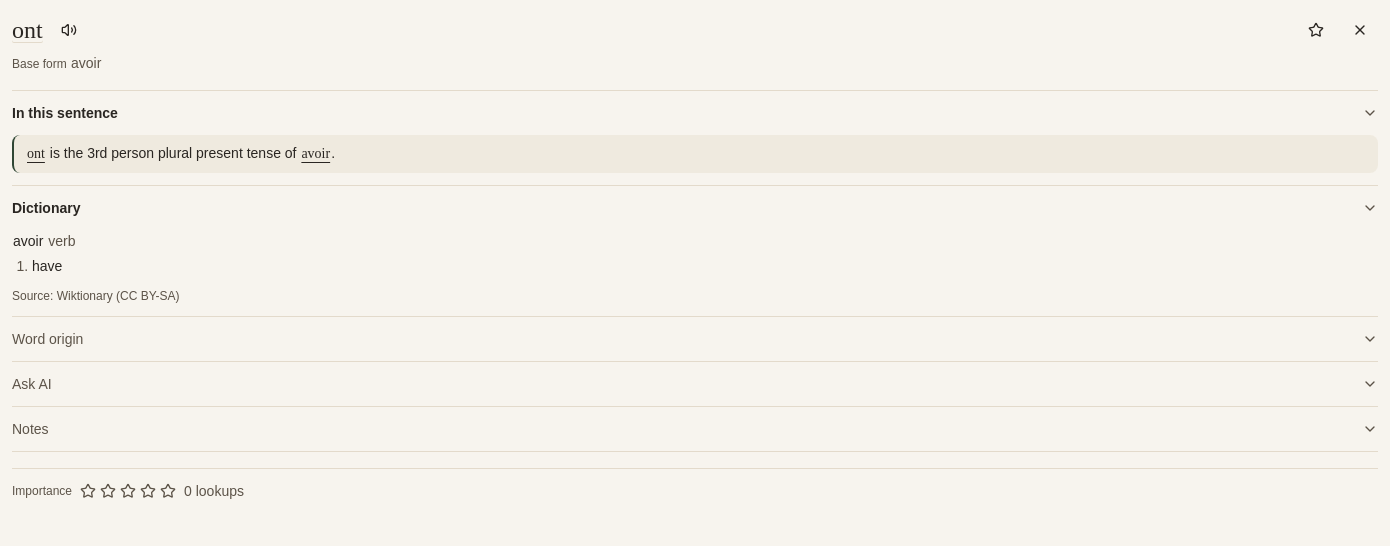
Scenario: Task B — Study word card, selection and steps › gives avoir its own sentence context via base form
Click the button "avoir" next to "Base form": (86, 63) [70,52,102,74]
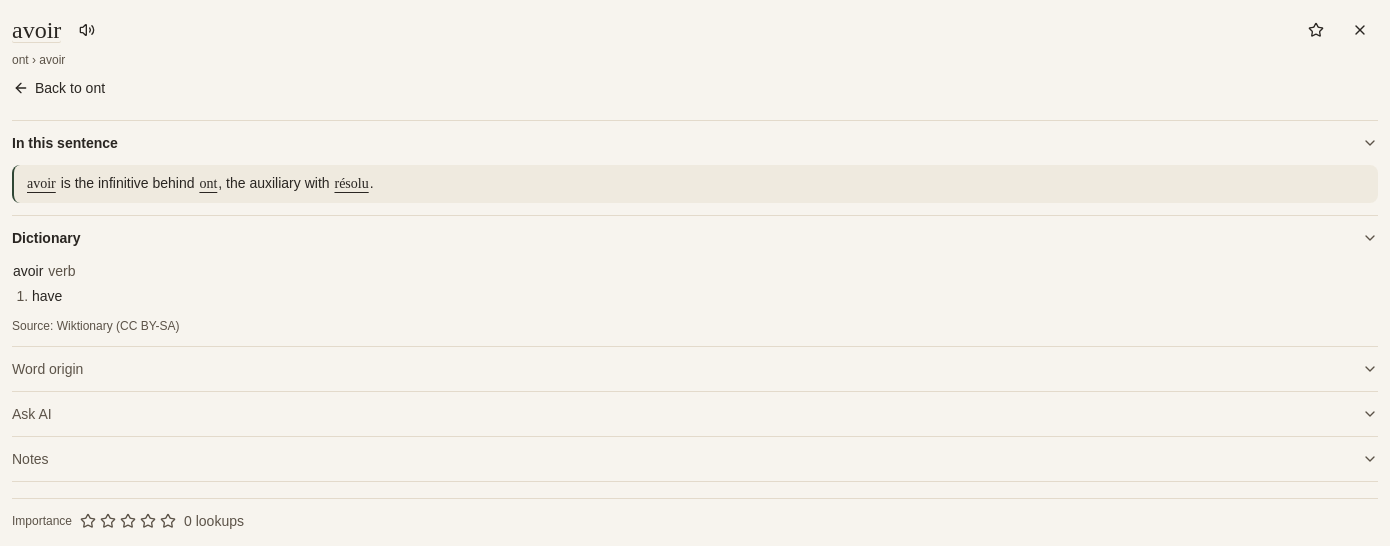
Expected: the element with class "wp-headword" reads "avoir", [12,17,61,43]
Expected: the element named "In this sentence" shows "is the infinitive behind", [57,175,198,191]
Expected: the button "Back to ont" is shown
Click the button "Back to ont": (59, 88) [12,72,106,104]
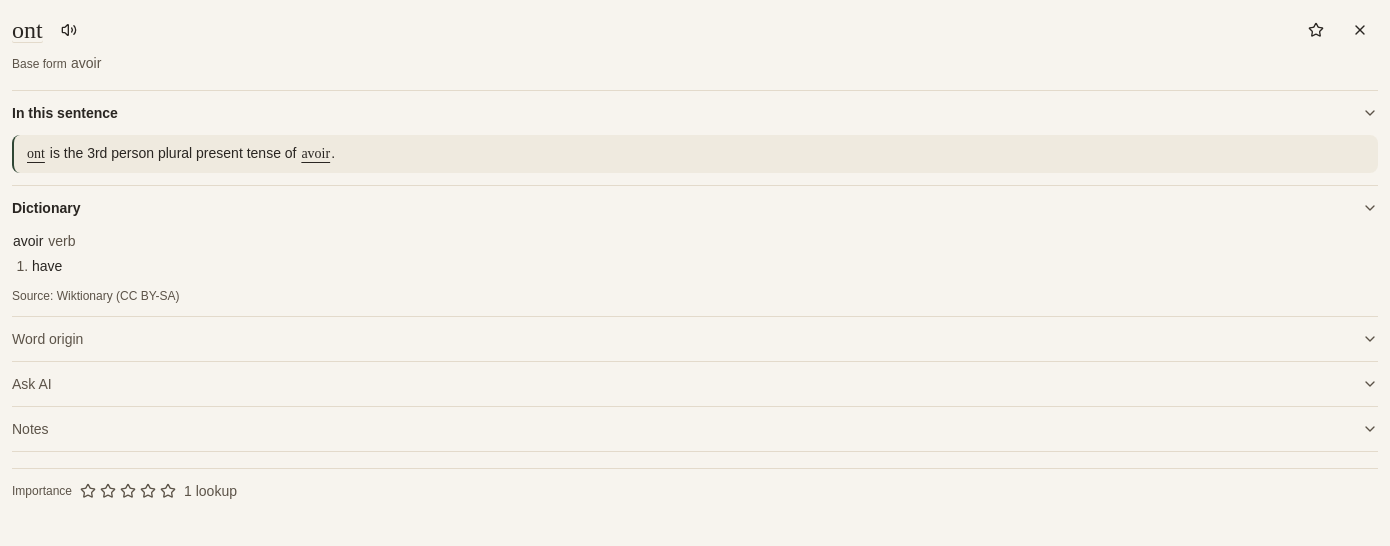
Expected: the element named "In this sentence" shows "3rd person plural", [46,145,300,161]
